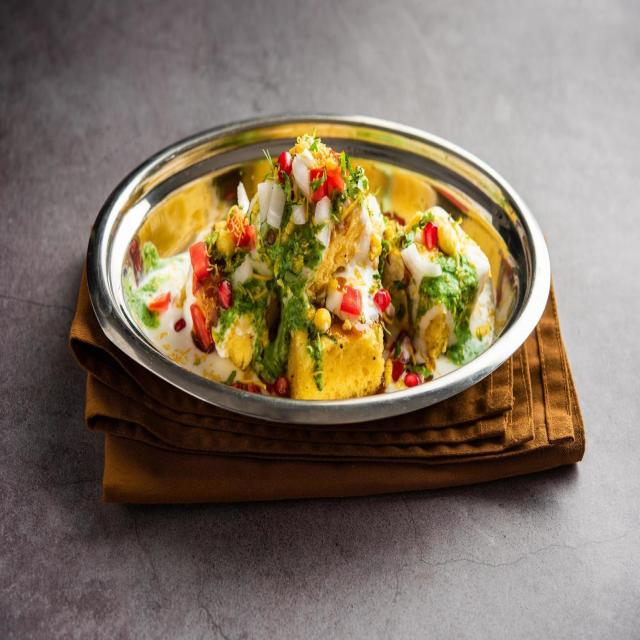dhokla: (145, 132, 503, 396)
